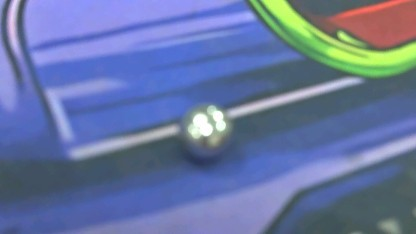ironball: (173, 95, 227, 151)
